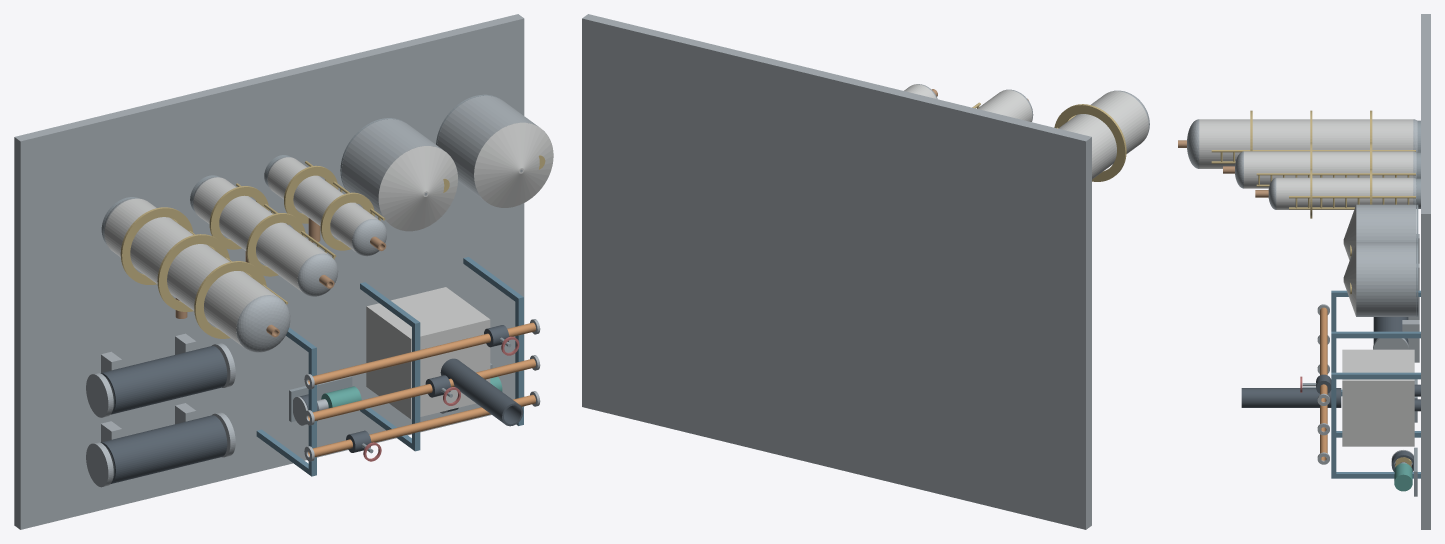
The model's file is assembly.glb.
The picture shows the model from 3 angles, left to right: view 1: azimuth 30°, elevation 25°; view 2: azimuth 150°, elevation 25°; view 3: azimuth 270°, elevation 25°; orthographic projection. The views are drawn at different scales.
Parts seen in each view (by area): view 1: part-000, part-122, part-010, part-133, part-129, part-040, part-103, part-084, part-127, part-131, part-063, part-012 (+19 smaller); view 2: part-000, part-010, part-036, part-040; view 3: part-010, part-122, part-000, part-040, part-131, part-063, part-127, part-124, part-081, part-004, part-006, part-009 (+11 smaller).
Boxes of the visible parts, x1,y1,x2,y2 form: part-000: (14, 14, 524, 529); part-122: (366, 287, 490, 419); part-010: (104, 198, 278, 347); part-133: (474, 122, 553, 207); part-129: (378, 146, 457, 231); part-040: (193, 177, 329, 291); part-103: (100, 415, 227, 483); part-084: (100, 346, 227, 414); part-127: (342, 119, 457, 230); part-131: (437, 95, 553, 207); part-063: (267, 157, 378, 251); part-012: (236, 295, 290, 352); part-000: (582, 14, 1091, 529); part-010: (1058, 91, 1148, 179); part-036: (1054, 104, 1126, 181); part-040: (977, 90, 1032, 121); part-010: (1199, 119, 1413, 168); part-122: (1342, 349, 1414, 446); part-000: (1421, 14, 1430, 529); part-040: (1244, 151, 1413, 188); part-131: (1356, 242, 1415, 316); part-063: (1276, 177, 1413, 209); part-127: (1356, 204, 1415, 242); part-124: (1241, 388, 1341, 407); part-081: (1289, 196, 1415, 209); part-004: (1336, 331, 1420, 338); part-006: (1336, 372, 1420, 379); part-009: (1331, 372, 1336, 478).
Bounding box in the file's own units: 0.19 × 0.14 × 0.1015.
